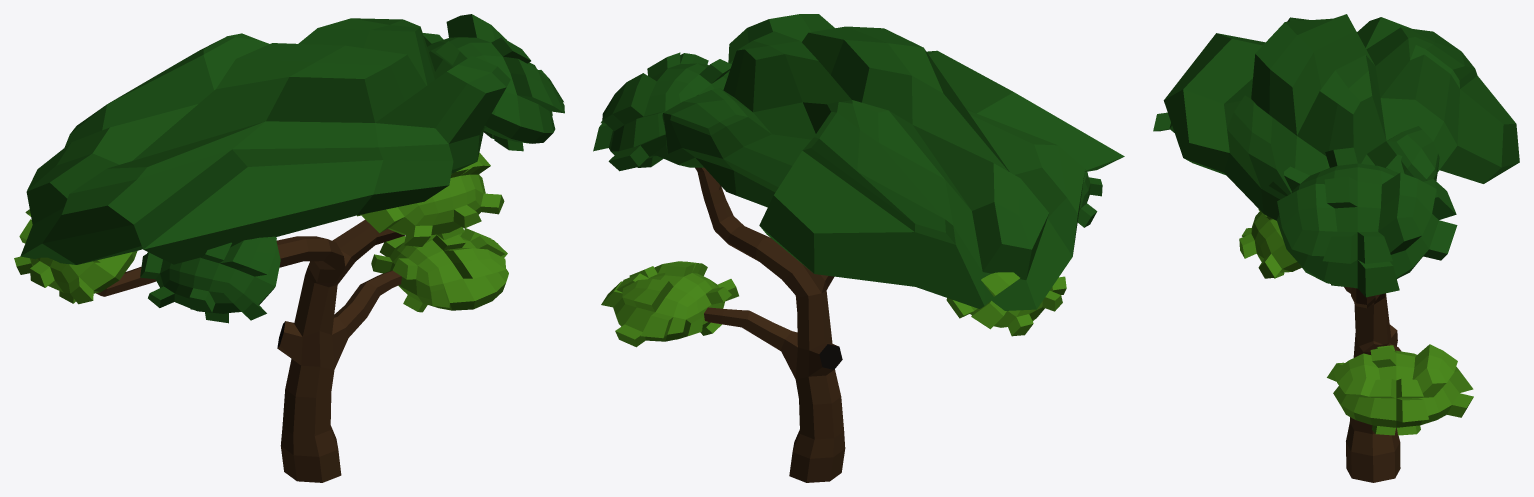
File: Tree2.FBX
The picture shows the model from 3 angles, left to right: view 1: azimuth 30°, elevation 25°; view 2: azimuth 150°, elevation 25°; view 3: azimuth 270°, elevation 25°; orthographic projection. The views are drawn at different scales.
Parts seen in each view (by area): view 1: Tree2; view 2: Tree2; view 3: Tree2.
Boxes of the visible parts, bbox=[...] form: Tree2: bbox=[14, 14, 564, 482]; Tree2: bbox=[593, 14, 1124, 482]; Tree2: bbox=[1153, 14, 1519, 482].
Size of the model in its own units: 536 by 449 by 356.
